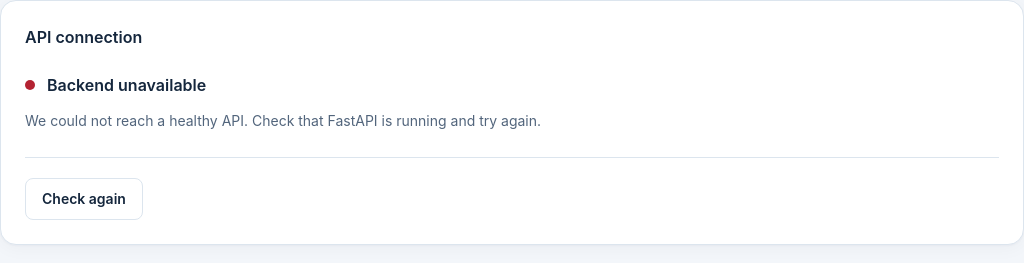
Test: reconnects when the user retries after a failure
Expected: the text "Backend unavailable" is shown, [47,73,206,97]
Click the button "Check again". click: [84, 199]
box: [25,178,143,220]
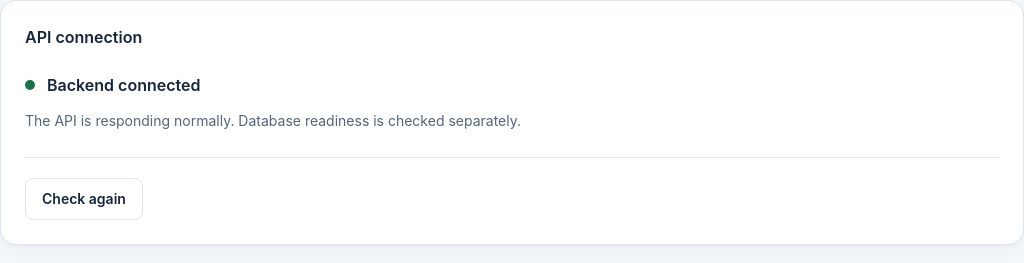
Now the text "Backend connected" is shown, box [47,73,200,97]
